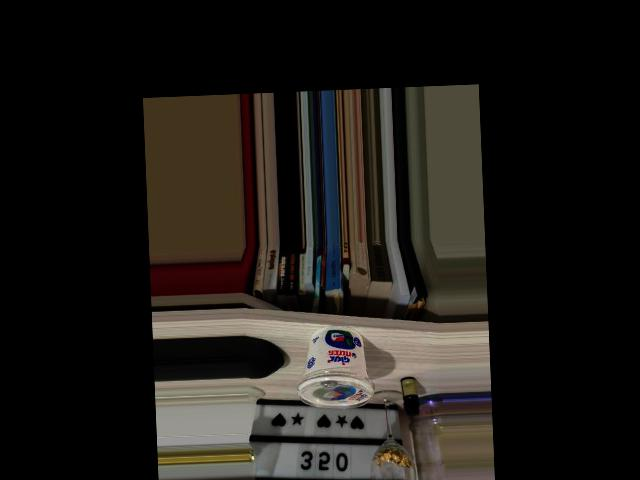cotage: (301, 323, 369, 413)
